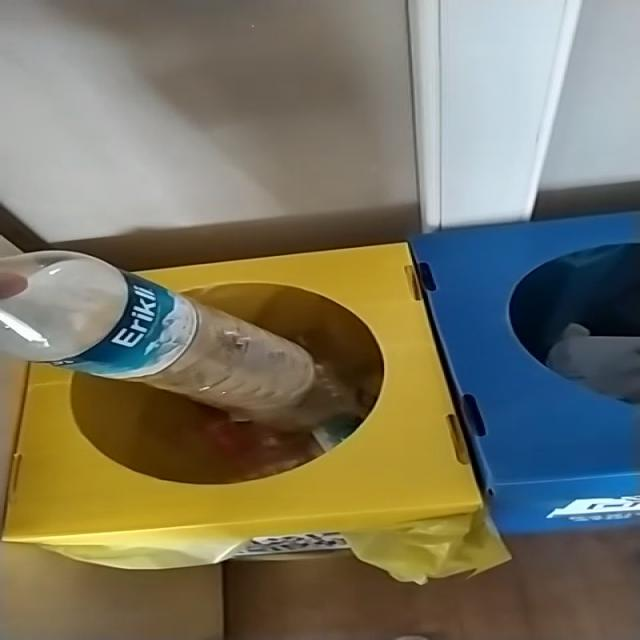plastic: (0, 252, 315, 419)
